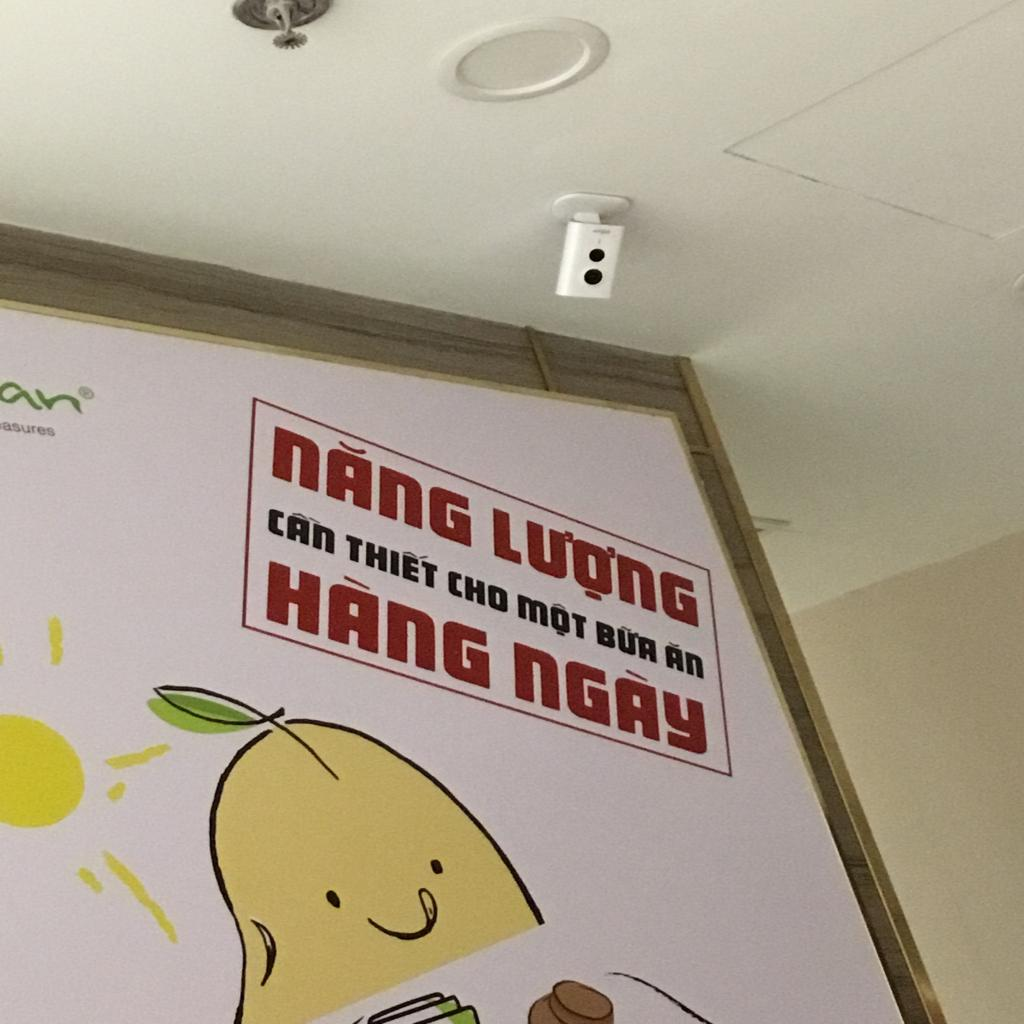text: (258, 550, 492, 694), (486, 502, 703, 636), (265, 412, 474, 551), (340, 529, 440, 592), (514, 588, 589, 645), (265, 502, 338, 557), (2, 376, 91, 419), (592, 613, 660, 667), (445, 567, 511, 615), (660, 638, 708, 682), (2, 418, 59, 438), (80, 386, 94, 398)
